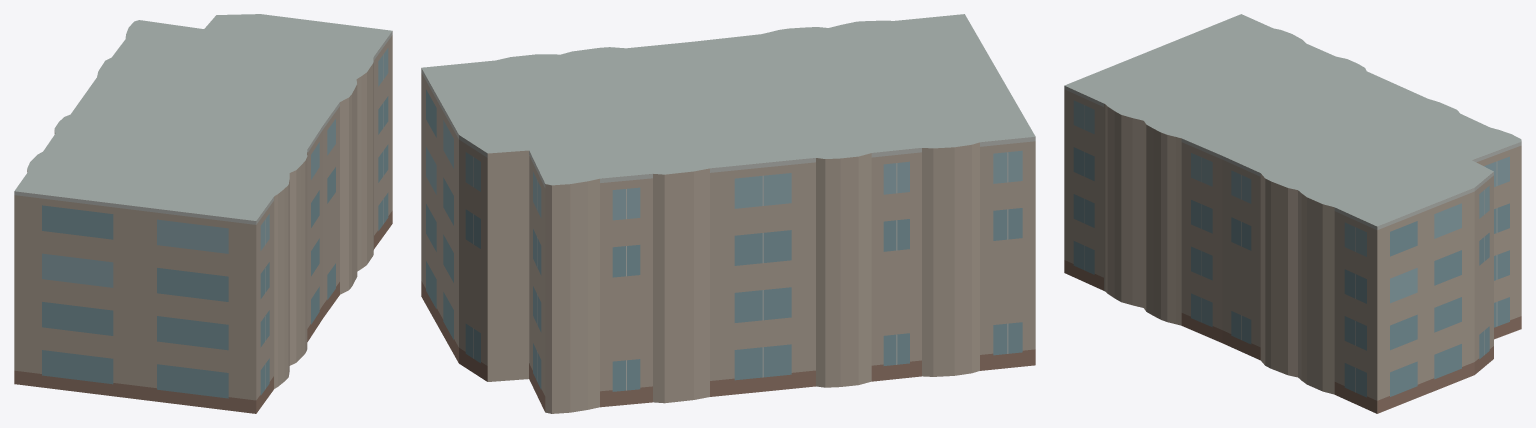
Rendered from survey-upis-32770710.glb.
3 renders of one model, left to right at view 1: azimuth 30°, elevation 25°; view 2: azimuth 150°, elevation 25°; view 3: azimuth 270°, elevation 25°, orthographic. The views are drawn at different scales.
Visible parts, largest first — view 1: survey-upis-32770710.tmp; view 2: survey-upis-32770710.tmp; view 3: survey-upis-32770710.tmp.
Part boxes in pixels (bbox=[...]): survey-upis-32770710.tmp: bbox=[14, 14, 392, 413]; survey-upis-32770710.tmp: bbox=[421, 14, 1035, 413]; survey-upis-32770710.tmp: bbox=[1064, 14, 1521, 413].
Size of the model in its own units: 29.94 by 12.3 by 27.22.
